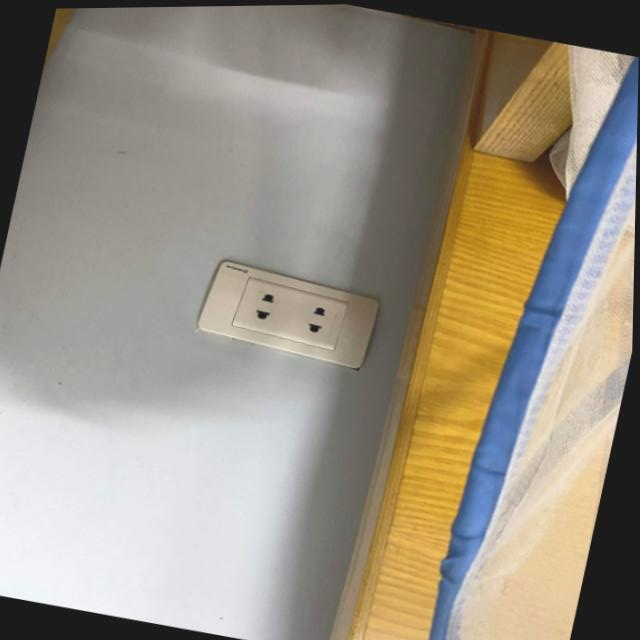outlet: (193, 254, 385, 373)
